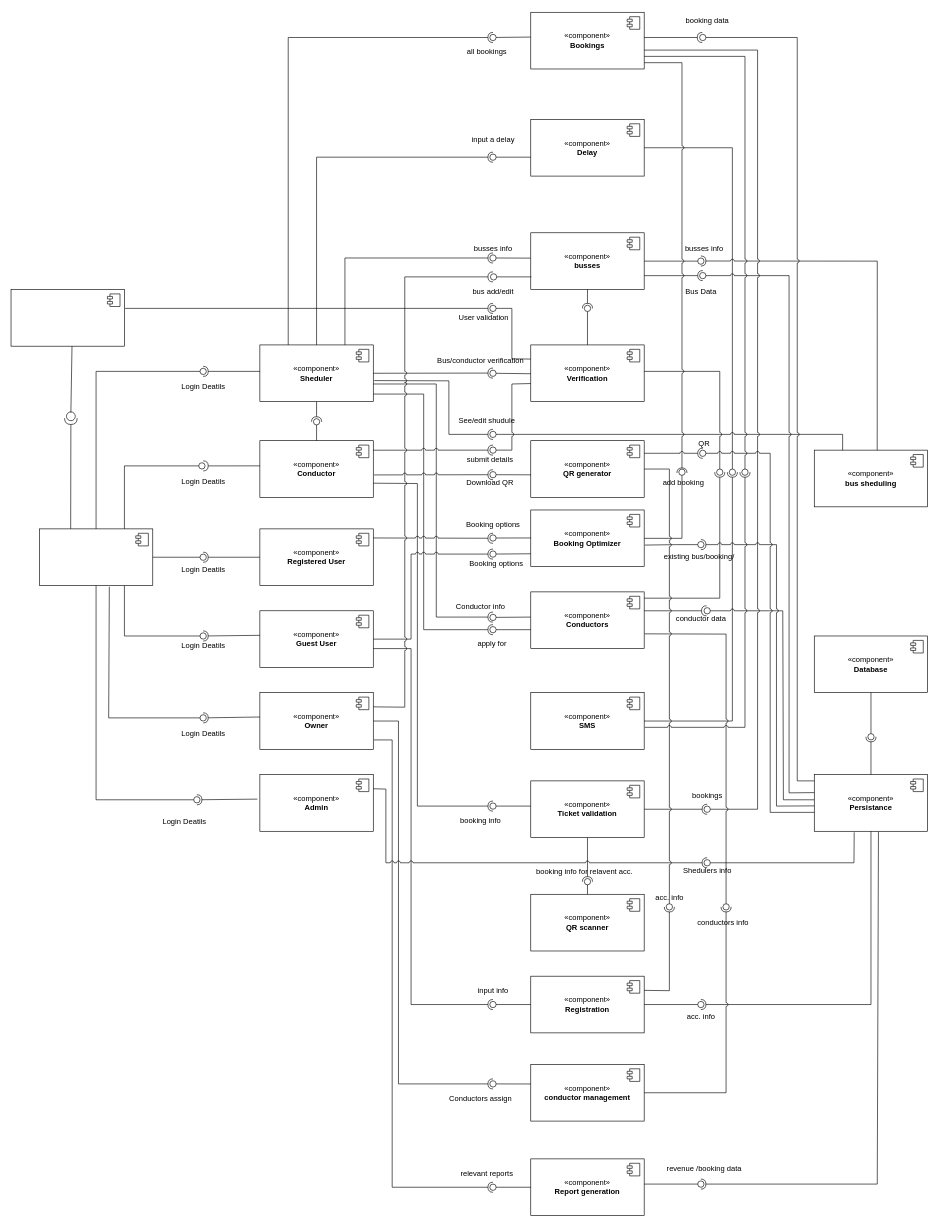
Some shapes in this 939 by 1227 pixel diagram are drawn without their labels. The centre of each missing label's shape, as x and y in pixels:
"«component» Login" goes at pixel 96 557.
"«component» Password recovery" goes at pixel 67 317.
